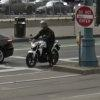Motorcycle: (21, 30, 65, 76)
